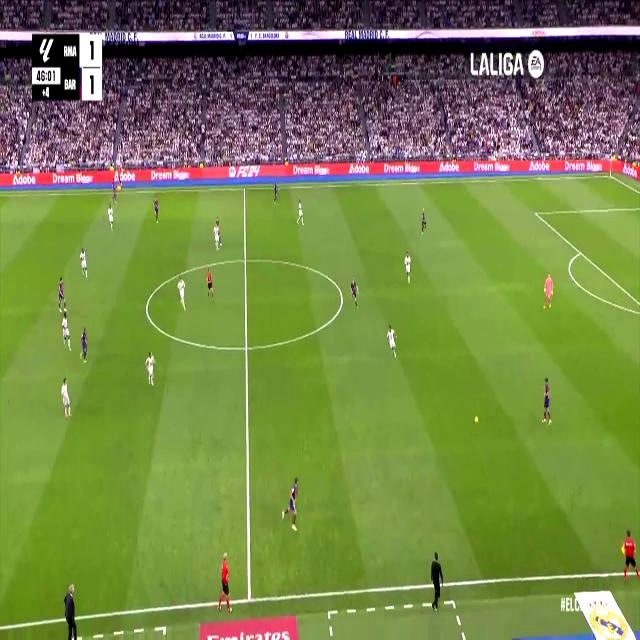bigarea_top_inner: (532, 207, 538, 219)
corner: (606, 169, 614, 179)
halfcircle_bottom: (241, 334, 253, 360)
halfcircle_top: (240, 248, 250, 270)
midline_bottom_intersection: (242, 584, 256, 608)
midline_top_intersection: (241, 182, 247, 195)
top_arc_area_intersection: (577, 244, 583, 258)
